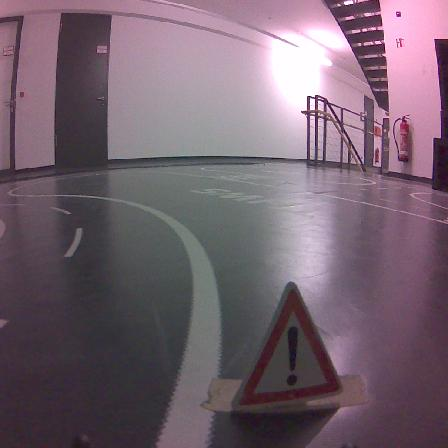ATTENTION: (232, 282, 340, 410)
